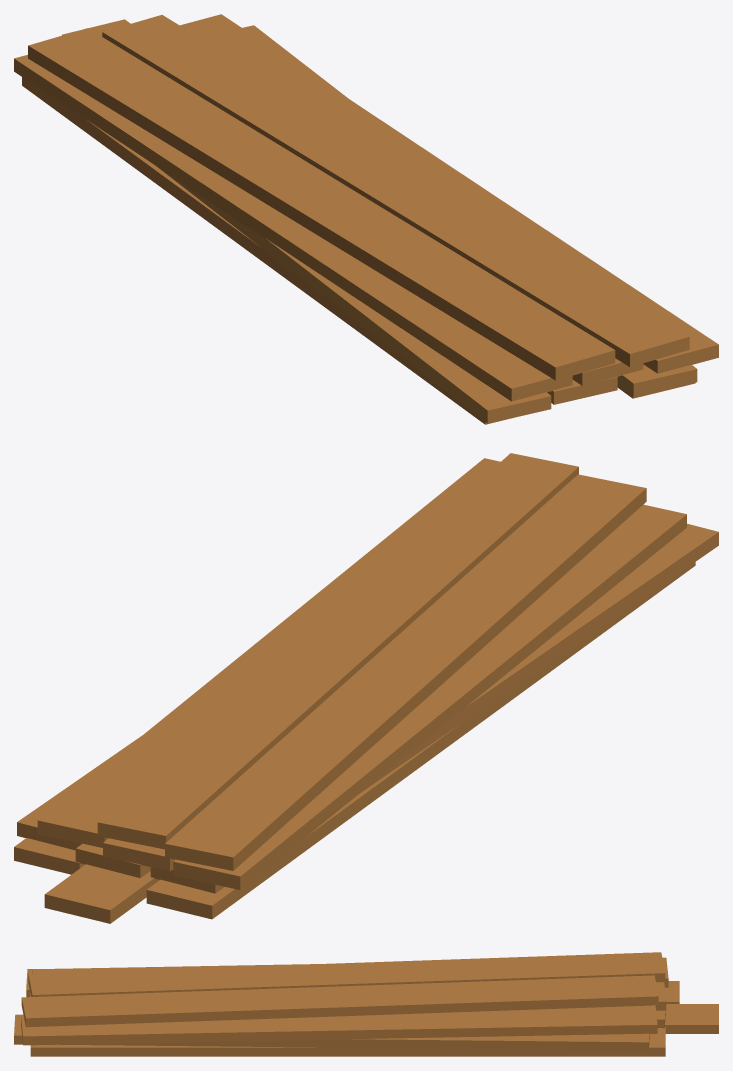
3 views of the same model, one above another, from view 1: azimuth 30°, elevation 25°; view 2: azimuth 150°, elevation 25°; view 3: azimuth 270°, elevation 25° (orthographic). The views are drawn at different scales.
Parts seen in each view (by area): view 1: A-16; view 2: A-16; view 3: A-16.
Part boxes in pixels (x1,y1,x2,y2): A-16: (14, 14, 718, 424); A-16: (14, 453, 718, 923); A-16: (14, 952, 718, 1056).
Bounding box in the file's own units: 368 × 76.84 × 1391.
